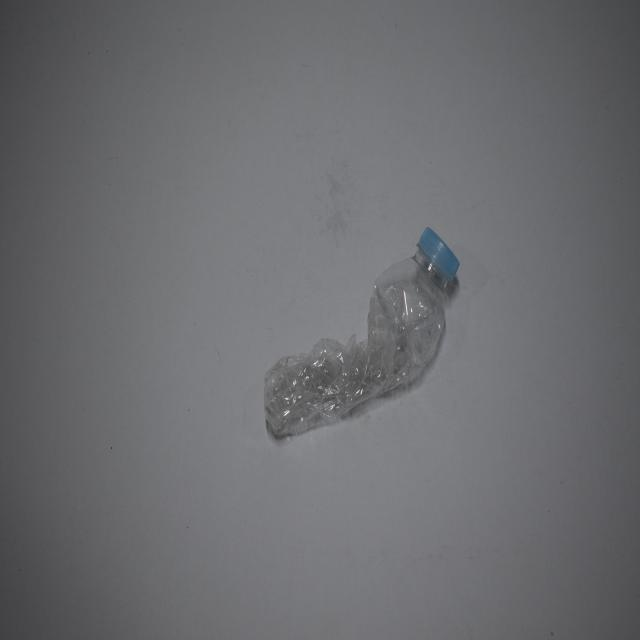bottle: (256, 216, 468, 462)
